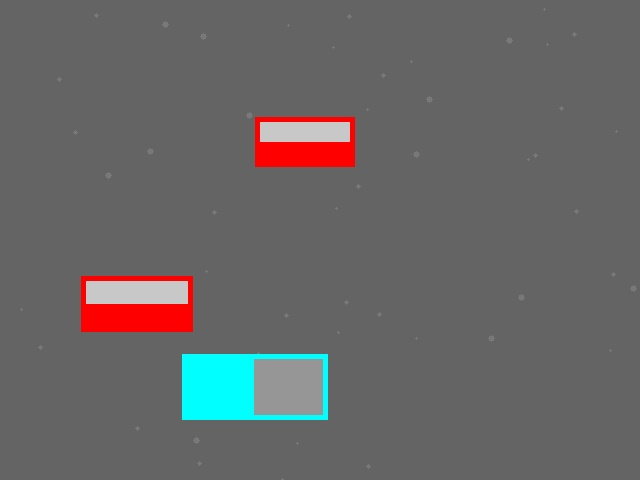car: (81, 276, 192, 331), (255, 117, 354, 166)
truck: (182, 354, 327, 419)
